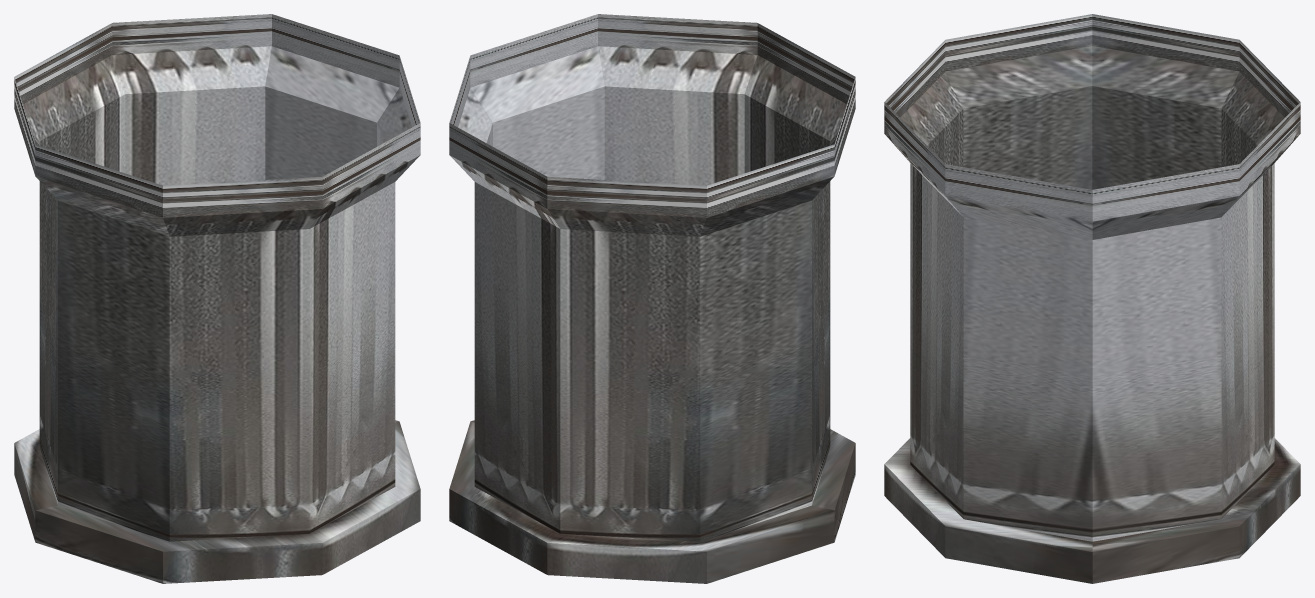
Rendered from OpenTrashBin.fbx.
The picture shows the model from 3 angles, left to right: view 1: azimuth 30°, elevation 25°; view 2: azimuth 150°, elevation 25°; view 3: azimuth 270°, elevation 25°; orthographic projection.
Parts seen in each view (by area): view 1: Trash Bin; view 2: Trash Bin; view 3: Trash Bin.
Part boxes in pixels (x1,y1,x2,y2): Trash Bin: (14,14,420,583); Trash Bin: (449,14,855,583); Trash Bin: (884,14,1300,583).
Bounding box in the file's own units: 91.32 × 91.32 × 95.45.
1 material, 1 textured.
